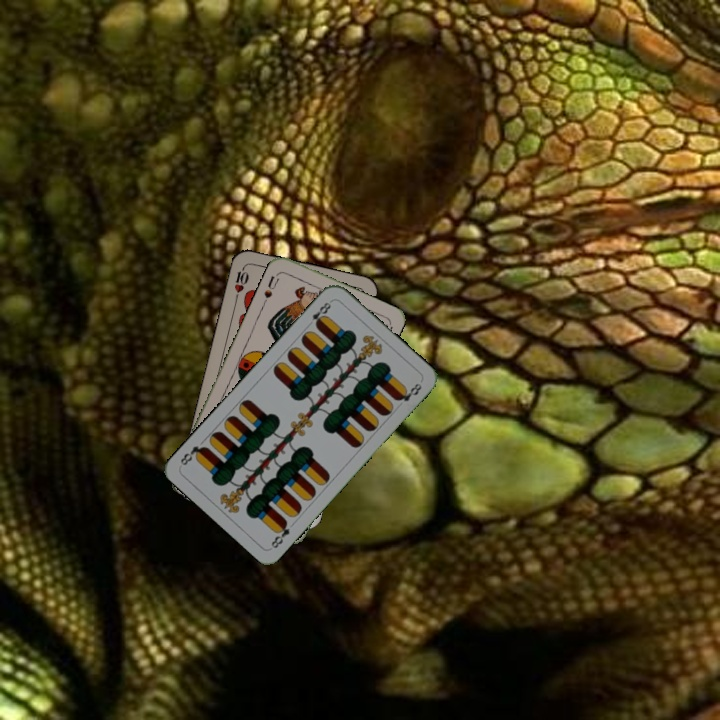E8: (308, 296, 335, 330), (267, 516, 292, 551)
H10: (230, 262, 251, 302)
SU: (259, 269, 282, 307)
